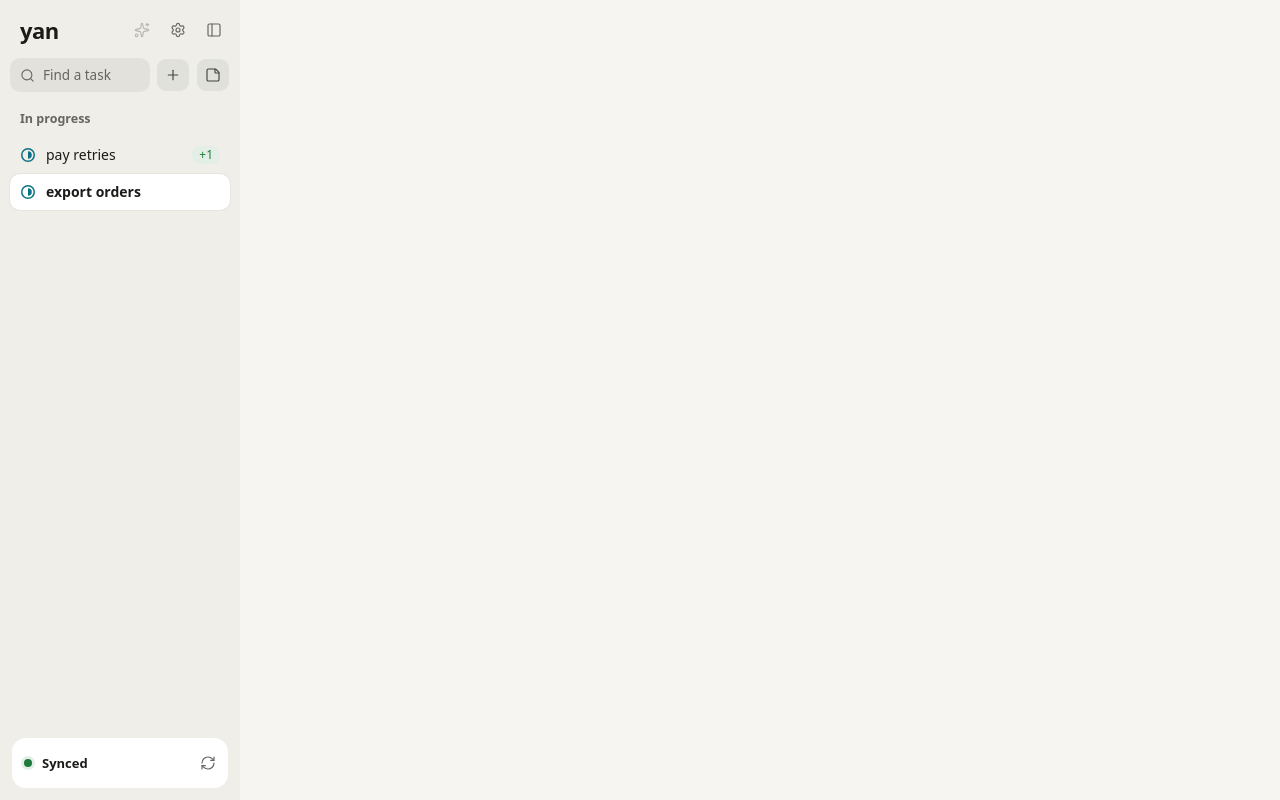
Test case: what this browser is set to › marks what is new beside its task, or does not, as the marks are turned on or off
The image size is (1280, 800).
Expected: the icon titled "1 added" is shown, [192,146,220,164]
What coordinates should you click on to do the following:
click the button named "Settings"
I would click on:
 (178, 30)
Its box is [164,16,192,44].
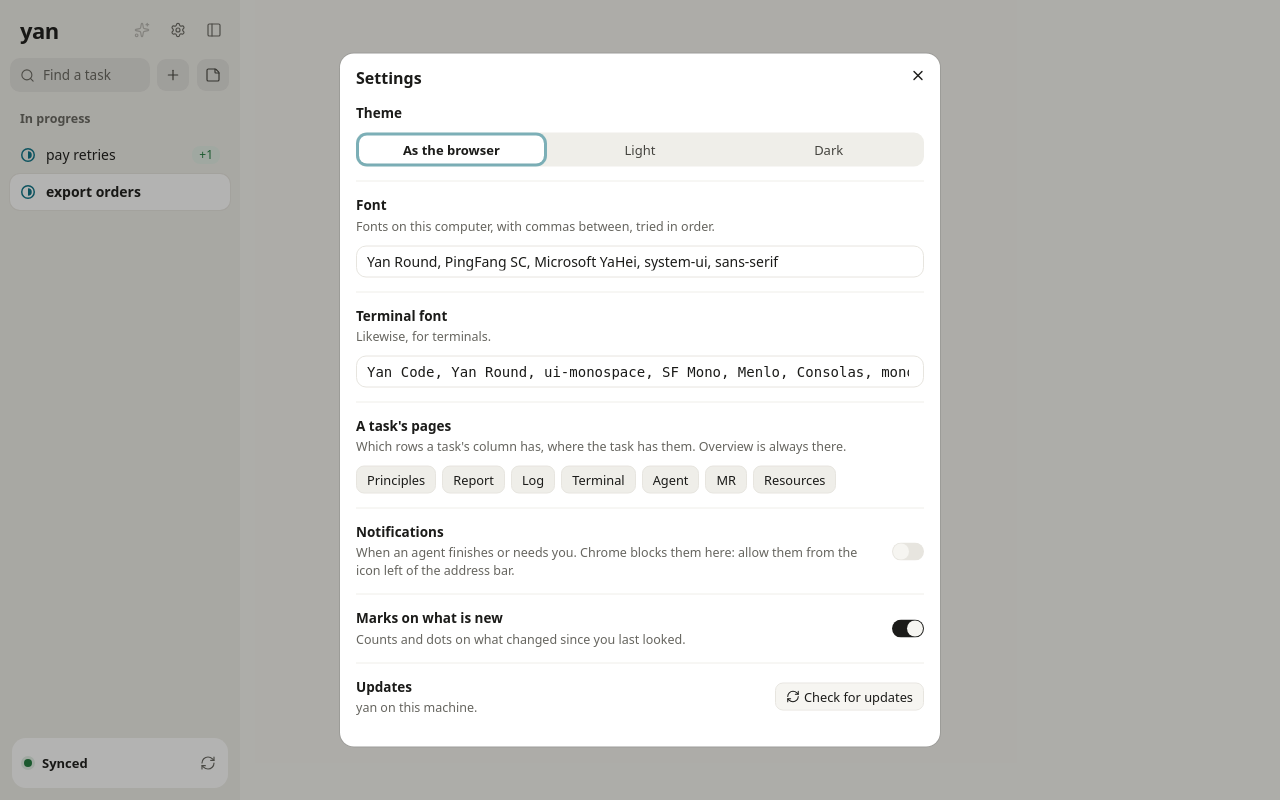
What coordinates should you click on to do the following:
click the switch named "Marks on what is new"
I would click on:
 (908, 629)
Its box is [892,619,924,638].
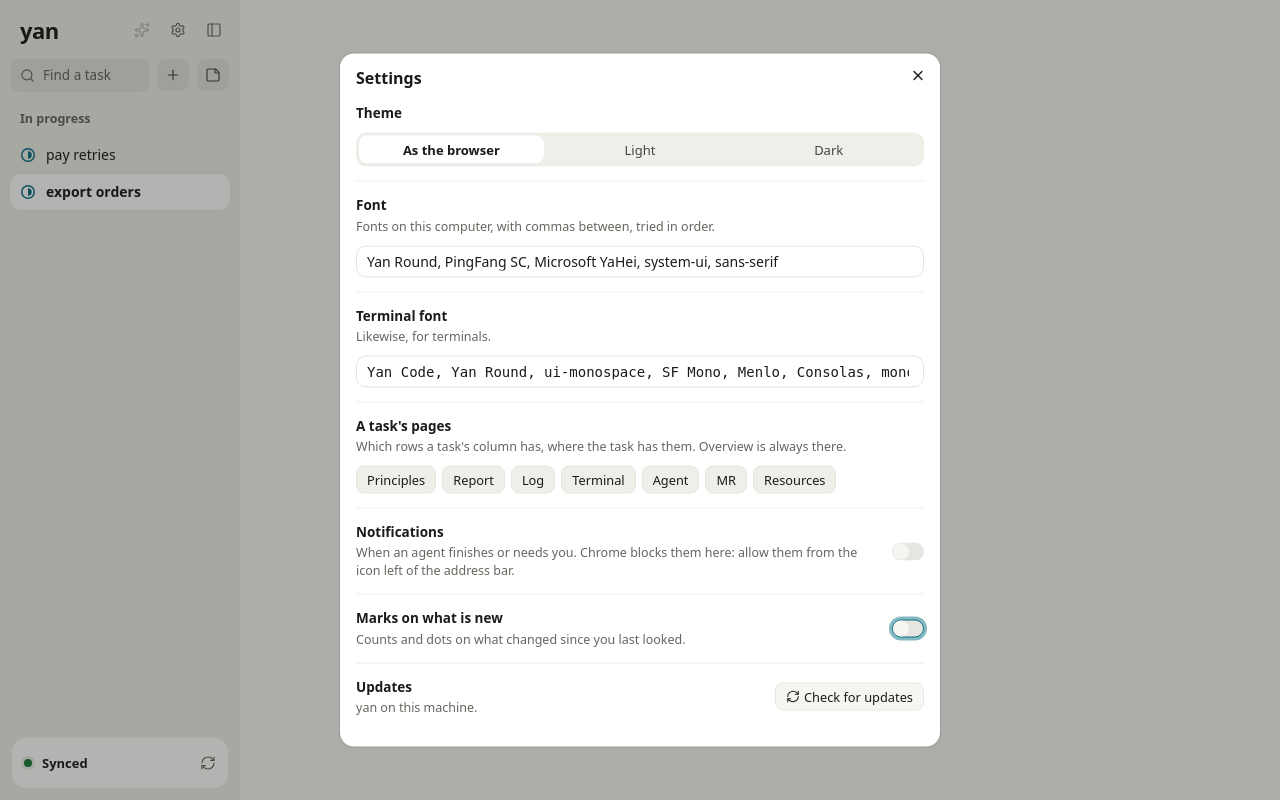
What coordinates should you click on to do the following:
click the switch named "Marks on what is new"
I would click on:
 (908, 629)
Its box is [892,619,924,638].
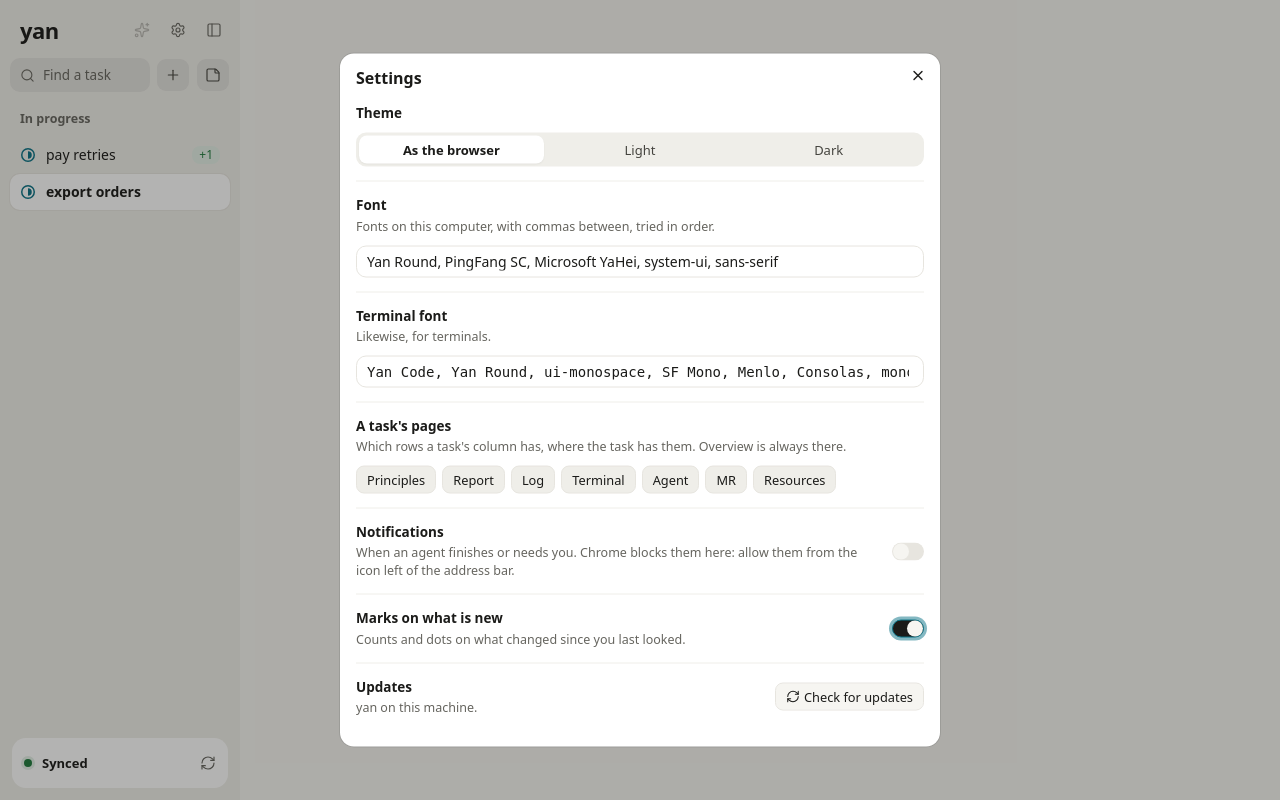
Now the icon titled "1 added" is shown, box [192,146,220,164]
